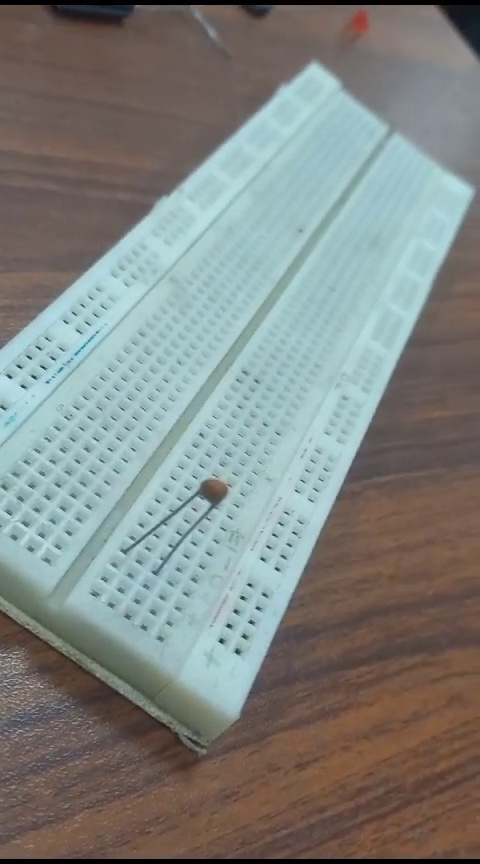ceramic capacitor: (115, 448, 236, 572)
